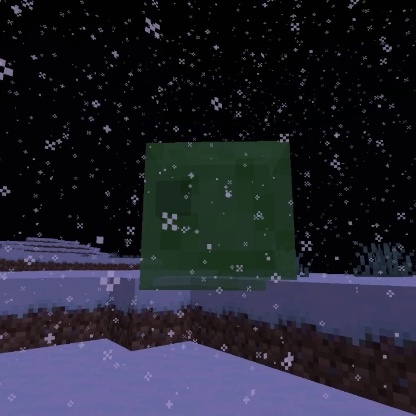slime: (134, 133, 299, 294)
